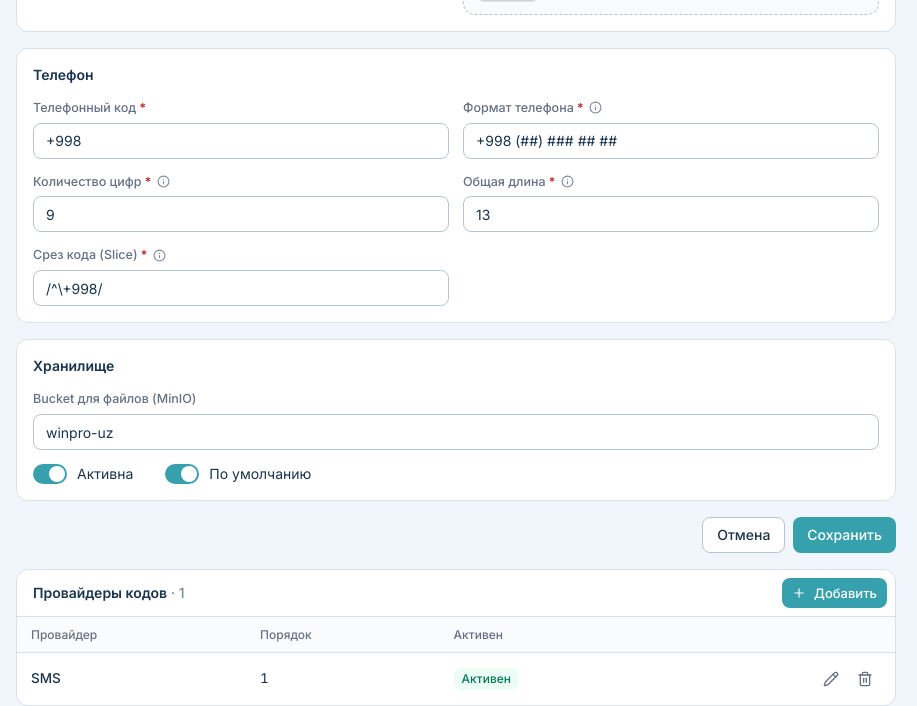
Countries › shows a missing bucket from the backend under the bucket field
The image size is (917, 706).
(page scrolled)
Expected: the field labelled "Bucket для файлов (MinIO)" holds "winpro-uz", x1=33 y1=414 x2=879 y2=450
Click the button "Сохранить" at x=845, y=535, box x1=793 y1=517 x2=896 y2=553
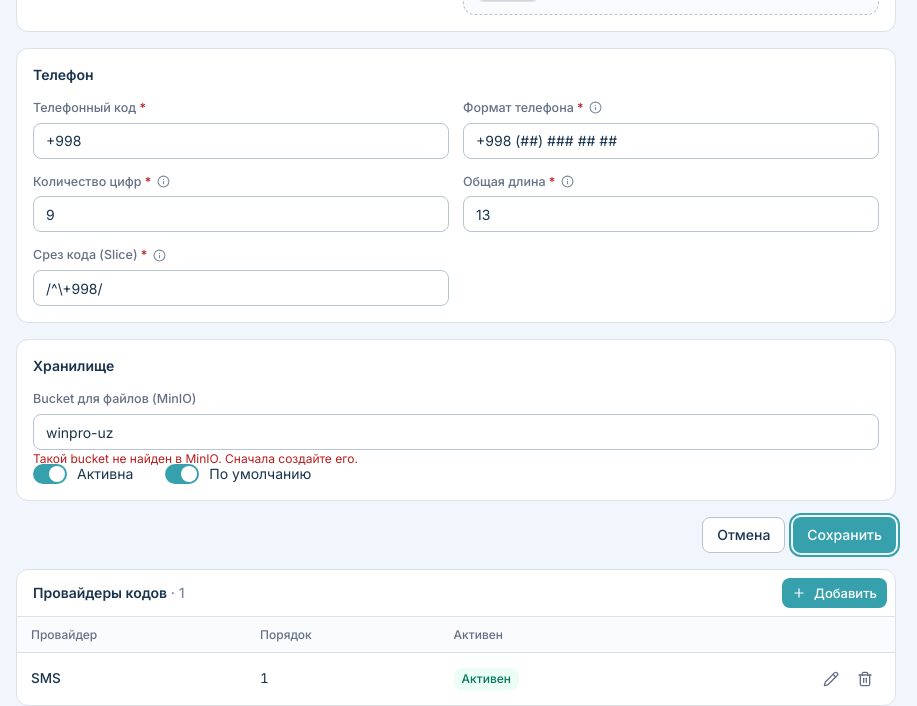
Result: the text "Такой bucket не найден в MinIO. Сначала создайте его." is shown at x1=33 y1=452 x2=358 y2=466
